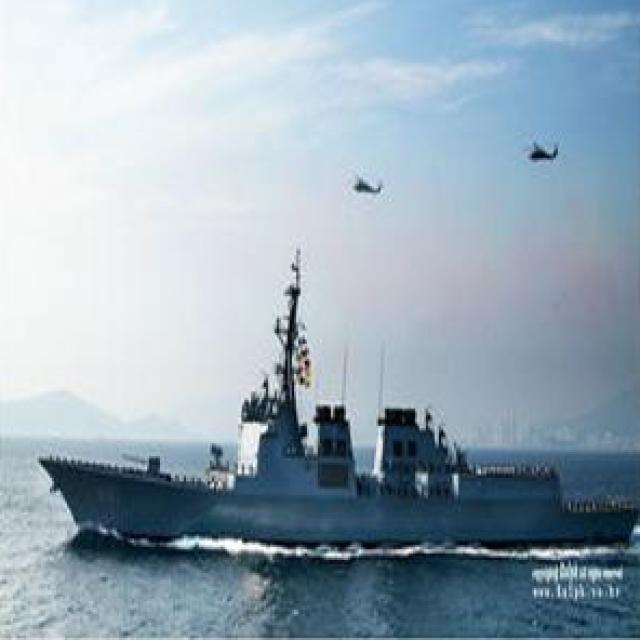navalvessels: (22, 232, 628, 547)
